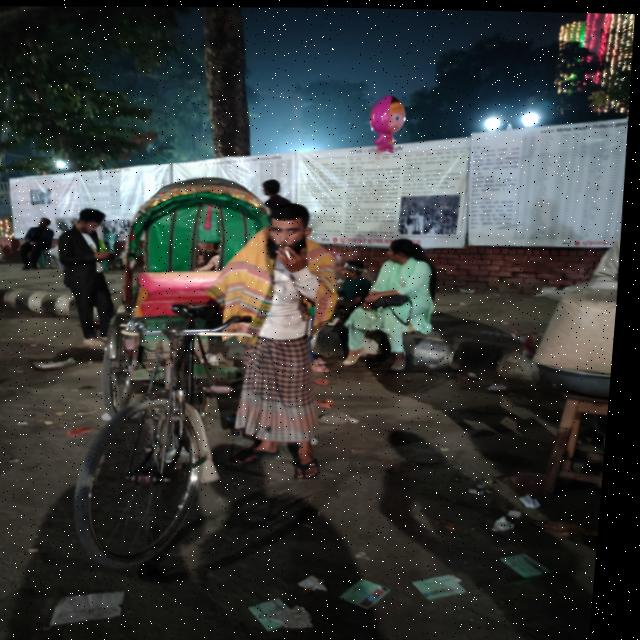rikshaw: (52, 157, 500, 640)
